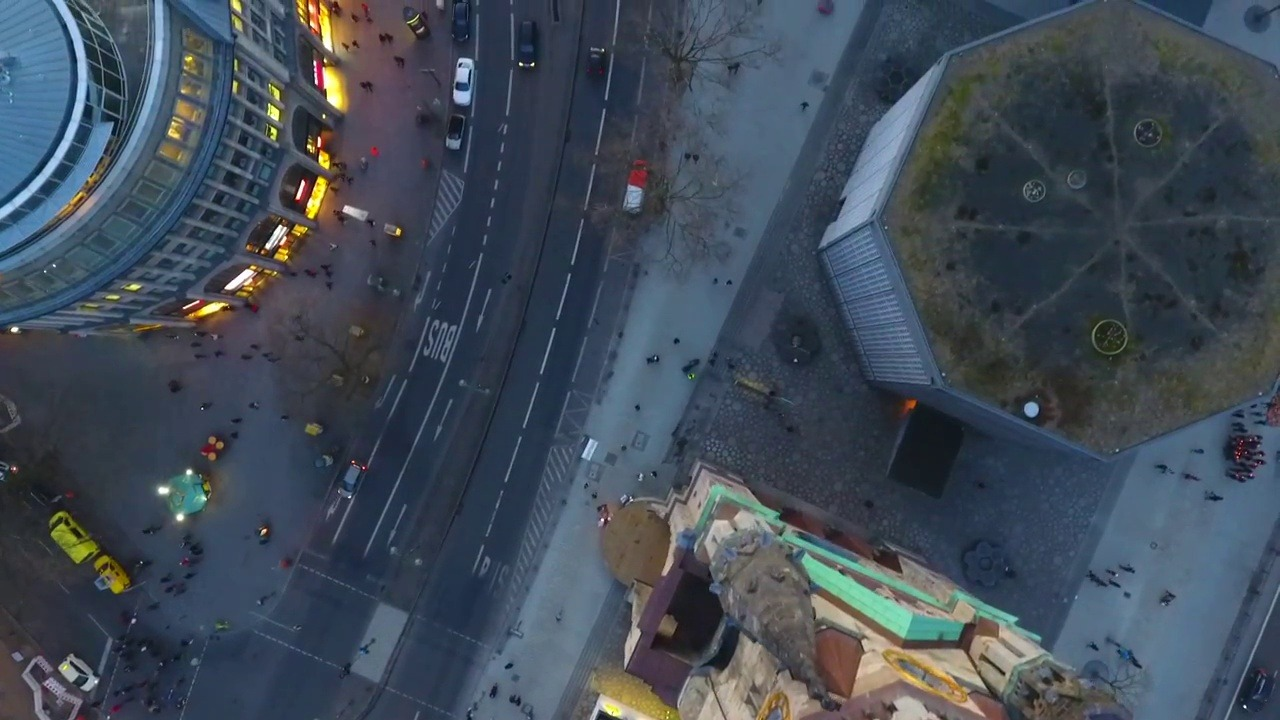car: (55, 650, 101, 695), (448, 51, 480, 112)
van: (46, 509, 100, 568)
